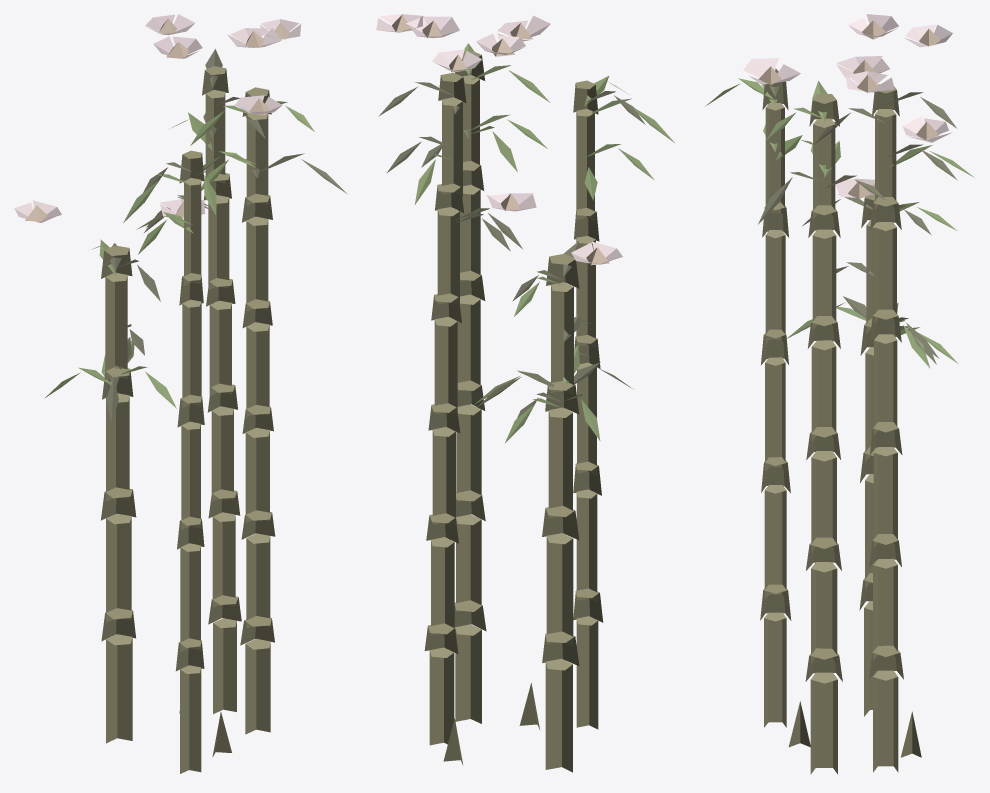
File: hua.zhu@flowering__winter.glb
3 views of the same model, side by side, from view 1: azimuth 30°, elevation 25°; view 2: azimuth 150°, elevation 25°; view 3: azimuth 270°, elevation 25° (orthographic). The views are drawn at different scales.
Visible parts, largest first — view 1: hua.zhu@flowering__winter; view 2: hua.zhu@flowering__winter; view 3: hua.zhu@flowering__winter.
Part boxes in pixels (left/top/right/bottom): hua.zhu@flowering__winter: left=14, top=14, right=347, bottom=773; hua.zhu@flowering__winter: left=376, top=14, right=674, bottom=772; hua.zhu@flowering__winter: left=705, top=14, right=974, bottom=774.
Size of the model in its own units: 2.29 by 5.83 by 1.98.
